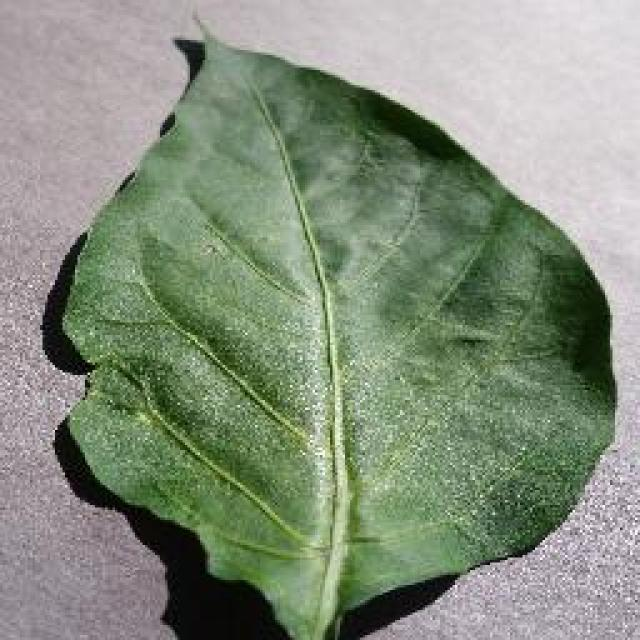Chilli_Healthy: (55, 10, 617, 638)
